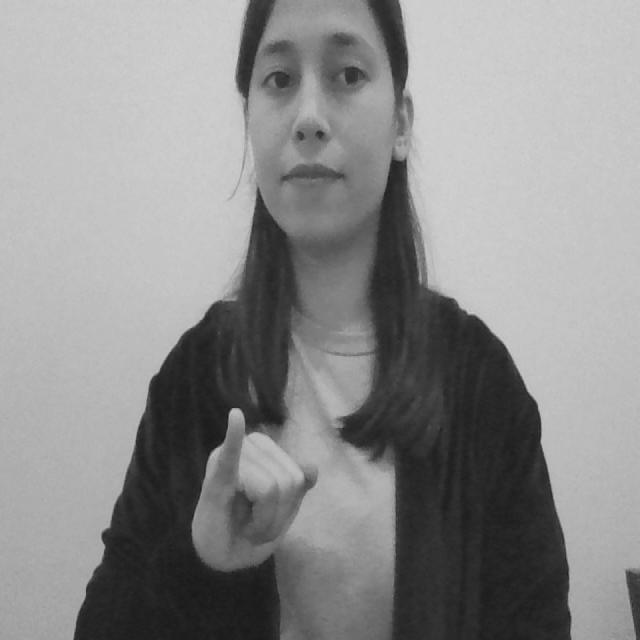kotu: (190, 395, 323, 572)
